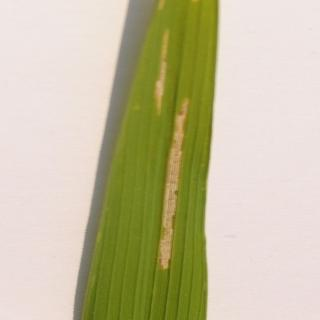Hawar-Daun: (146, 96, 200, 284), (148, 30, 176, 114)
